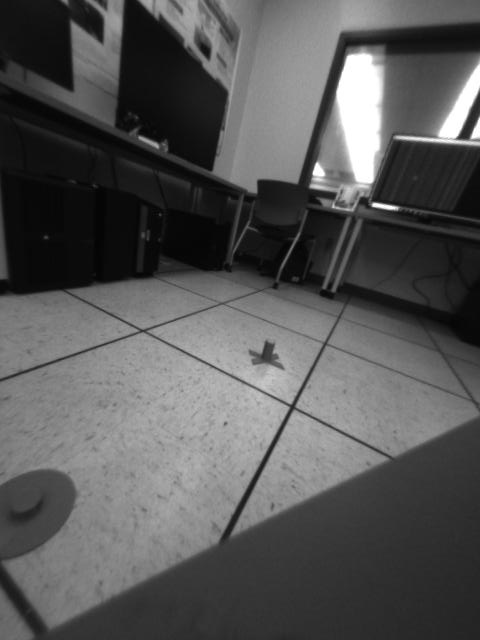X: (248, 338, 285, 372)
